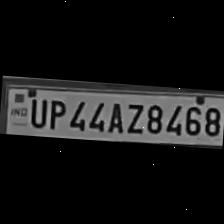4: (64, 96, 88, 130), (86, 96, 106, 132), (162, 101, 182, 135)
6: (180, 100, 201, 136)
8: (200, 104, 223, 136), (142, 101, 163, 135)
A: (104, 97, 124, 133)
P: (44, 96, 66, 130)
U: (26, 94, 46, 127)
Z: (121, 98, 144, 134)
